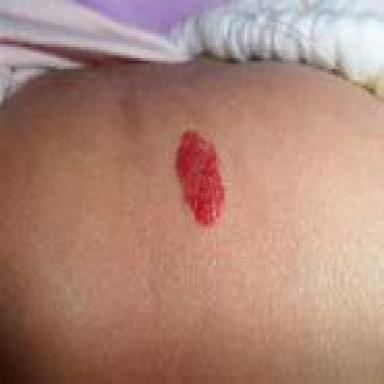Hemangiome: (175, 131, 225, 225)
